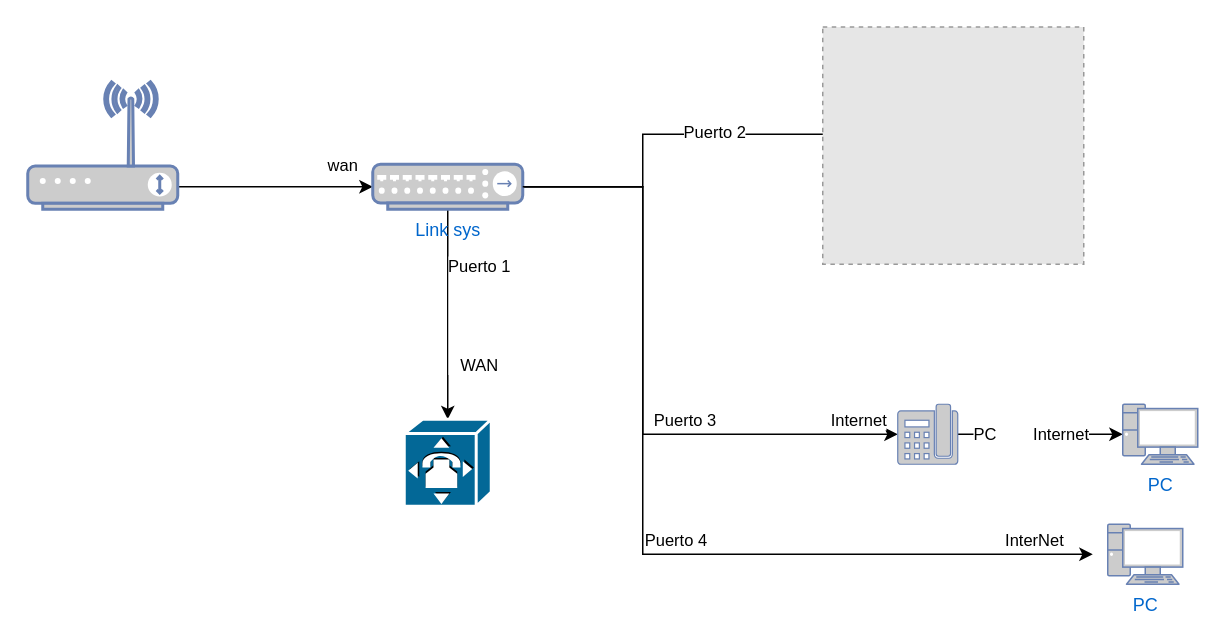
Some shapes in this 1224 by 641 pixel diagram are drawn without their labels. Grey dashed boxes stand in for pictures. Here are the shapes that lost their labels. From the top down, the centre of each, then its label:
At (102,145): "Total Play".
At (447,462): "GrandStream".
